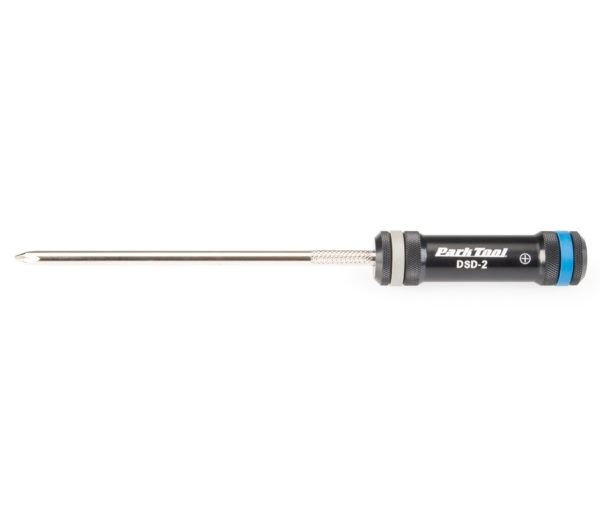screwdriver: (8, 227, 588, 287)
